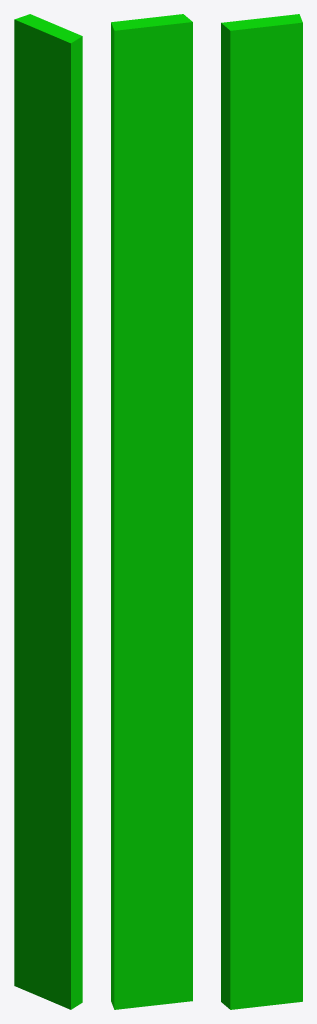
3 renders of one model, left to right at view 1: azimuth 90°, elevation 25°; view 2: azimuth 150°, elevation 25°; view 3: azimuth 330°, elevation 25°, orthographic.
Visible parts, largest first — view 1: Plane.037; view 2: Plane.037; view 3: Plane.037.
Part boxes in pixels (bbox=[...]): Plane.037: bbox=[14, 14, 82, 1009]; Plane.037: bbox=[111, 14, 192, 1009]; Plane.037: bbox=[221, 14, 302, 1009].
Bounding box in the file's own units: 861 × 13170 × 841.
